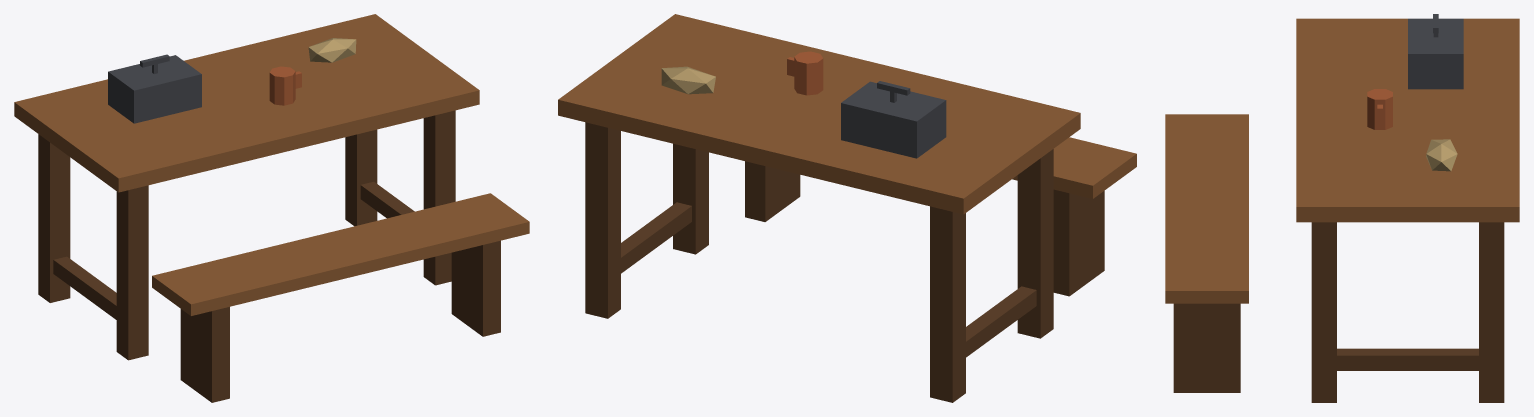
Rendered from mine_table.glb.
The picture shows the model from 3 angles, left to right: view 1: azimuth 30°, elevation 25°; view 2: azimuth 150°, elevation 25°; view 3: azimuth 270°, elevation 25°; orthographic projection. The views are drawn at different scales.
Visible parts, largest first — view 1: mine_table; view 2: mine_table; view 3: mine_table.
Part boxes in pixels (x1,y1,x2,y2): mine_table: (14,14,529,402); mine_table: (558,14,1136,402); mine_table: (1165,14,1519,402).
Size of what is drawn, in the model's own units: 1.6 by 1.01 by 1.27.
